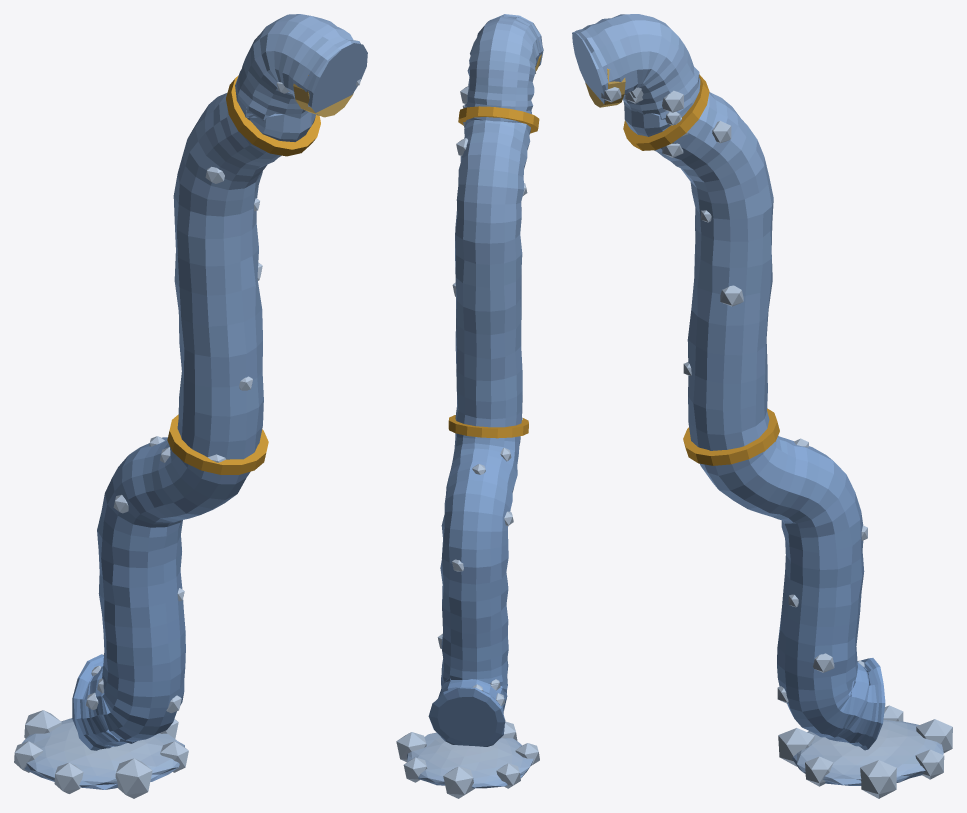
The model's file is goo_drop_tube_goo_3@fairground.fbx.
The picture shows the model from 3 angles, left to right: view 1: azimuth 30°, elevation 25°; view 2: azimuth 150°, elevation 25°; view 3: azimuth 270°, elevation 25°; orthographic projection. The views are drawn at different scales.
Visible parts, largest first — view 1: goo_drop_tube_goo_3; view 2: goo_drop_tube_goo_3; view 3: goo_drop_tube_goo_3.
Boxes of the visible parts, x1,y1,x2,y2 form: goo_drop_tube_goo_3: (14, 14, 367, 798); goo_drop_tube_goo_3: (396, 14, 543, 798); goo_drop_tube_goo_3: (572, 14, 952, 798).
Bounding box in the file's own units: 9.68 × 37.69 × 16.49.
